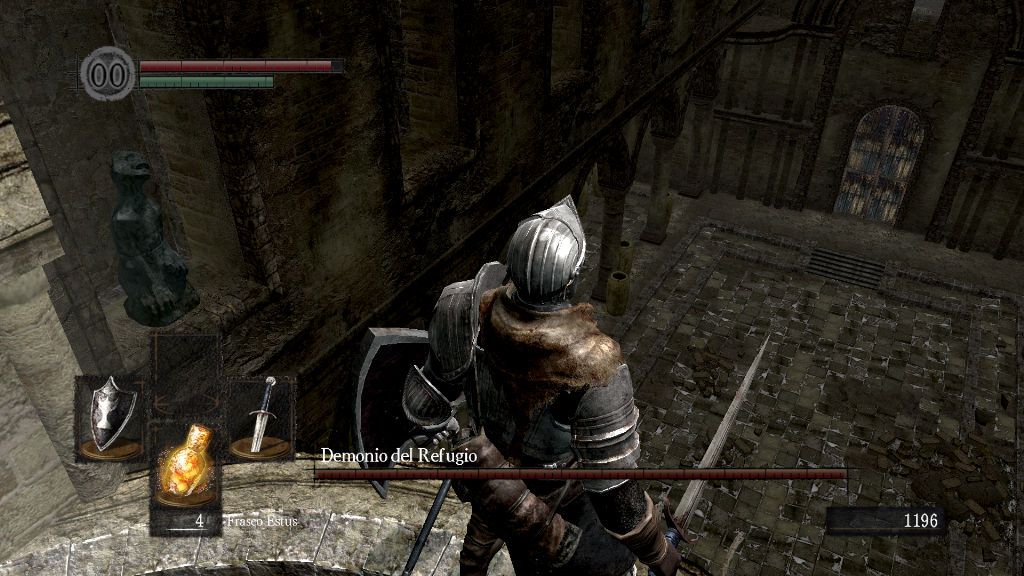bossHP: (314, 469, 847, 479)
health: (138, 58, 343, 71)
humanity: (80, 45, 136, 102)
player: (348, 195, 771, 576)
souls: (825, 506, 945, 536)
stamina: (138, 74, 274, 88)
